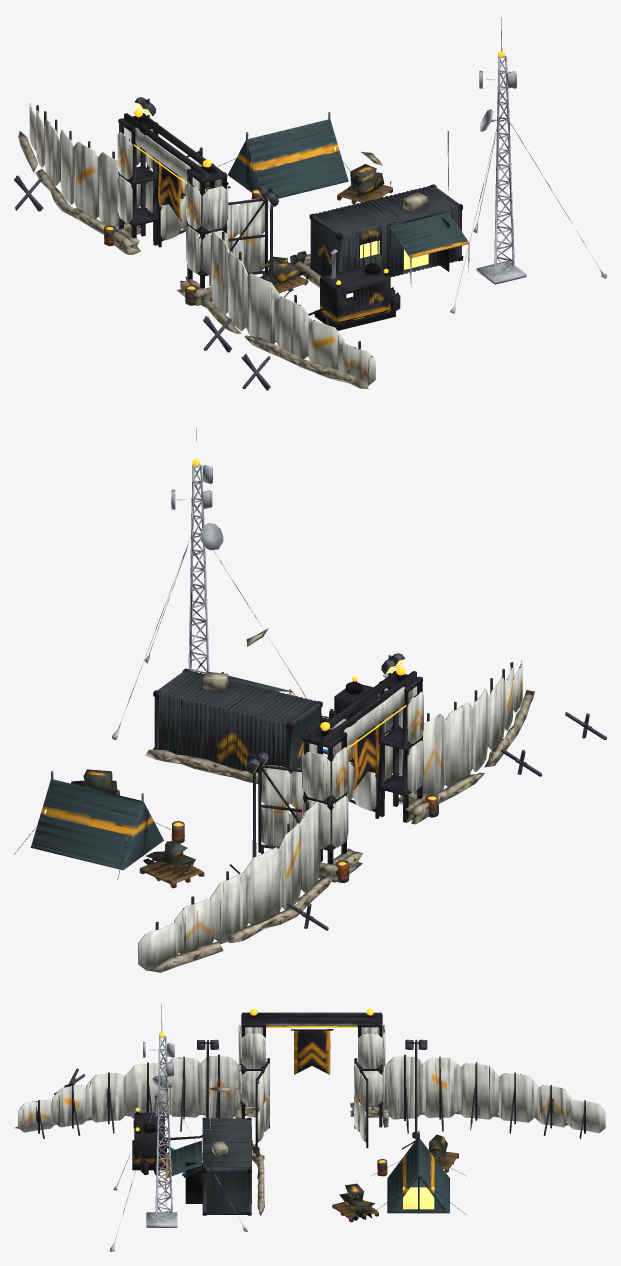
Rendered from datacenter_city.glb.
3 renders of one model, top to bottom at view 1: azimuth 30°, elevation 25°; view 2: azimuth 150°, elevation 25°; view 3: azimuth 270°, elevation 25°, orthographic. The views are drawn at different scales.
Visible parts, largest first — view 1: City; view 2: City; view 3: City.
Part boxes in pixels (x1,y1,x2,y2): City: (14,17,606,390); City: (14,428,606,972); City: (14,1004,606,1251).
Bounding box in the file's own units: 7.92 × 5.05 × 12.24.
5 materials, 1 textured.
